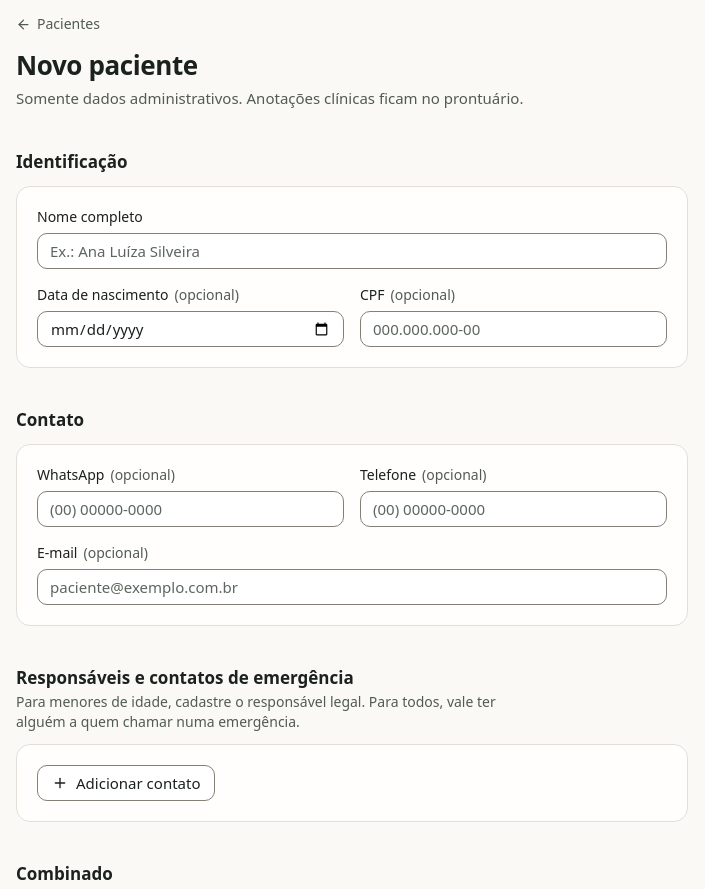
Scenario: FormularioPacientePage › permite adicionar e remover contatos adicionais
Click the button "Adicionar contato": point(126, 783) [37,765,216,801]
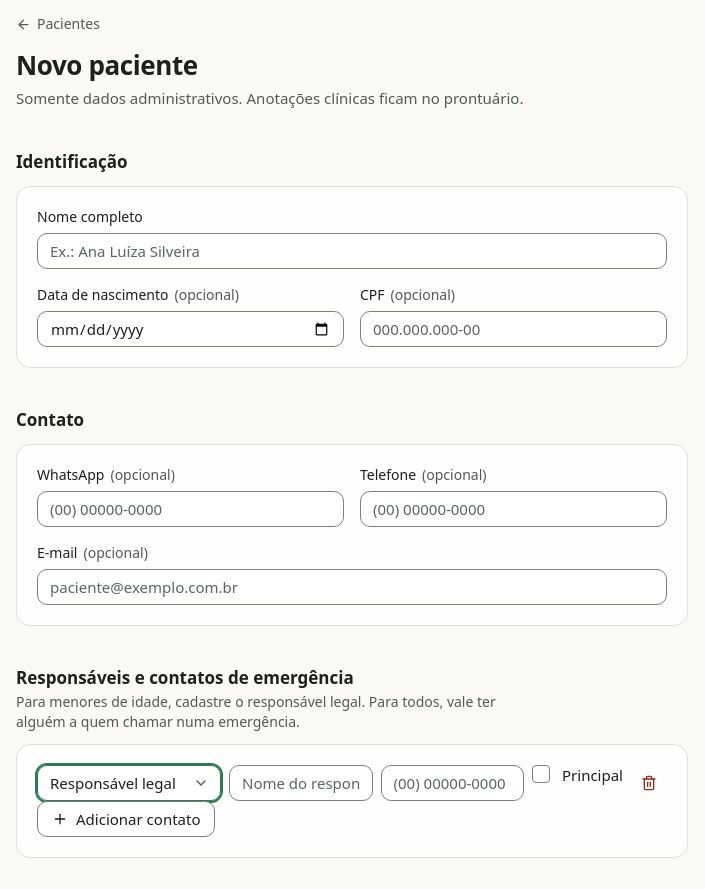
expect the field labelled "Telefone ou e-mail do contato 1" is shown: met, box [380,765,524,801]
Click the button named "Remover contato 1": point(649, 783) [631,765,667,801]
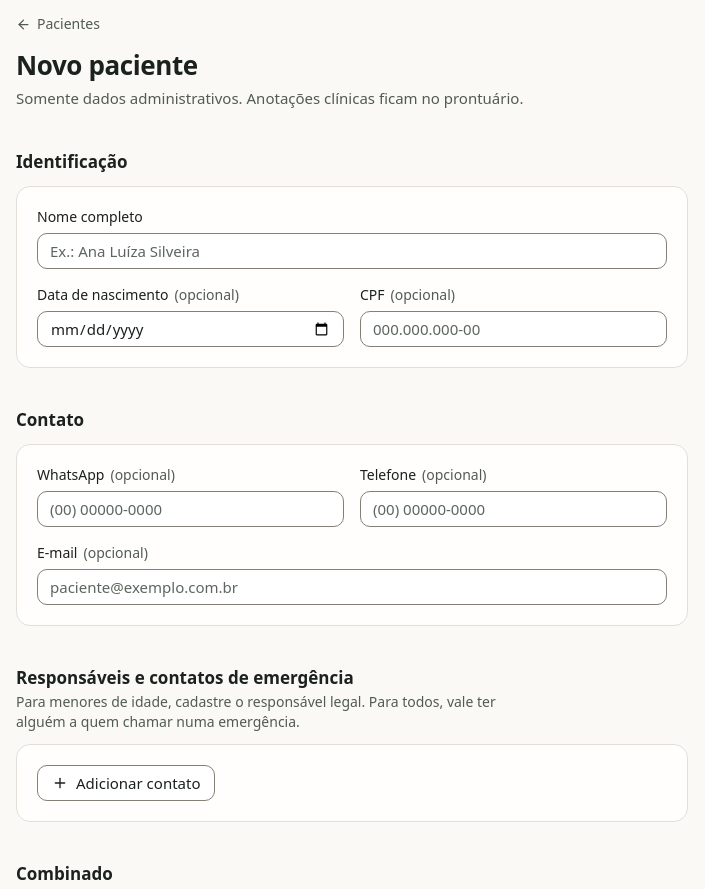
expect the label labelled "Telefone ou e-mail do contato 1" is gone: met
